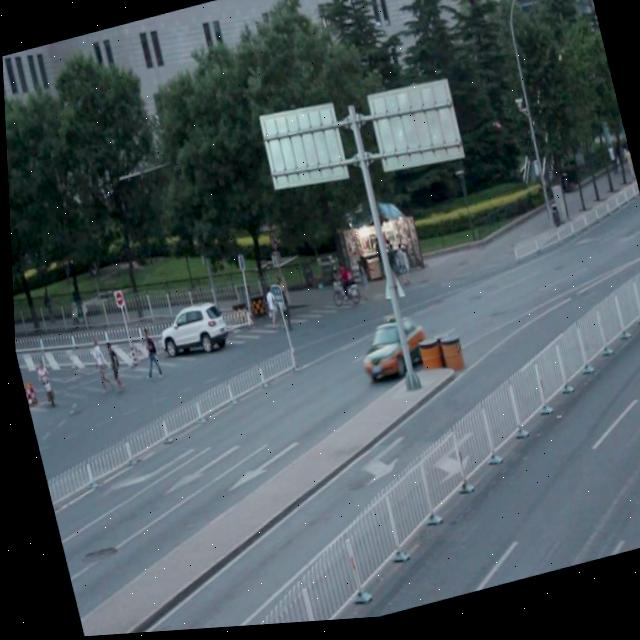car: (349, 315, 430, 391), (153, 299, 228, 365)
